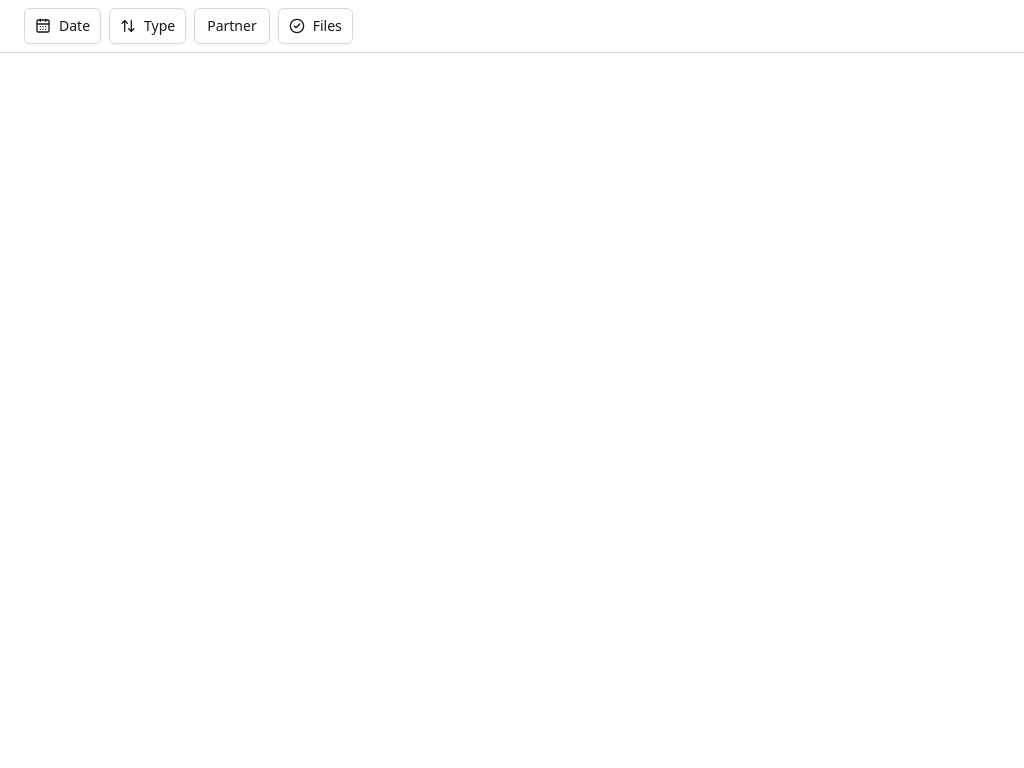
Test: Transactions toolbar › names the assigned/unassigned chip after the File column (#519)
Click the button "Files": (315, 26) x1=278 y1=8 x2=353 y2=44
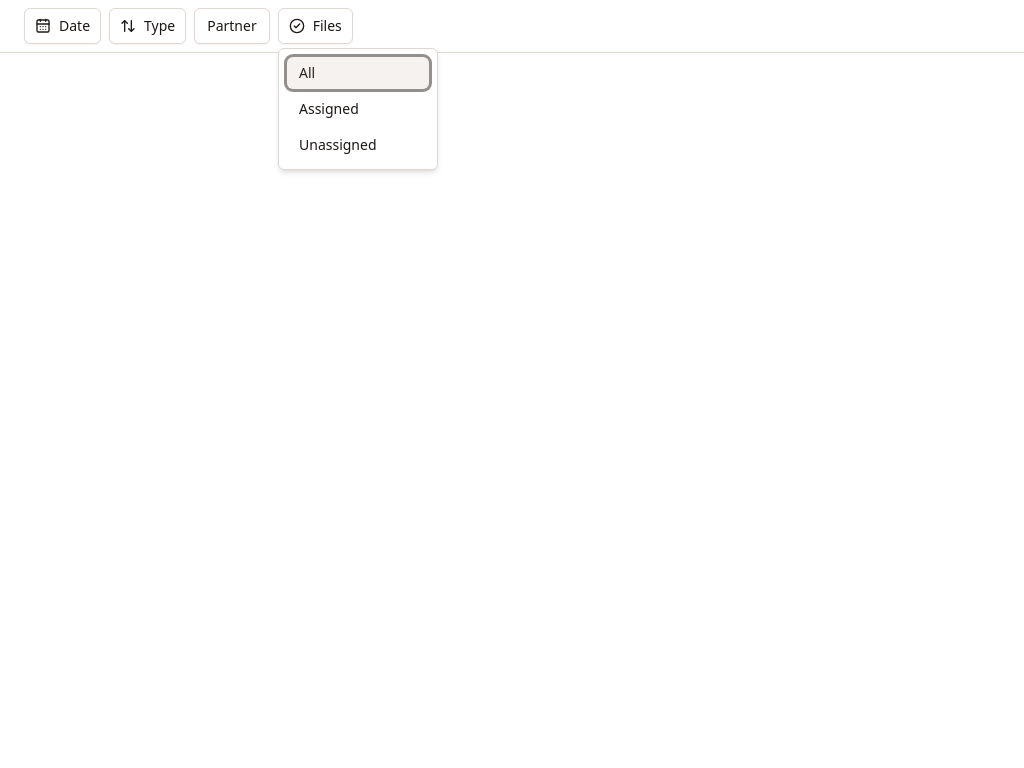
Result: the button "All" is shown at x1=287 y1=57 x2=429 y2=89
Result: the button "Assigned" is shown at x1=287 y1=93 x2=429 y2=125
Result: the button "Unassigned" is shown at x1=287 y1=129 x2=429 y2=161
